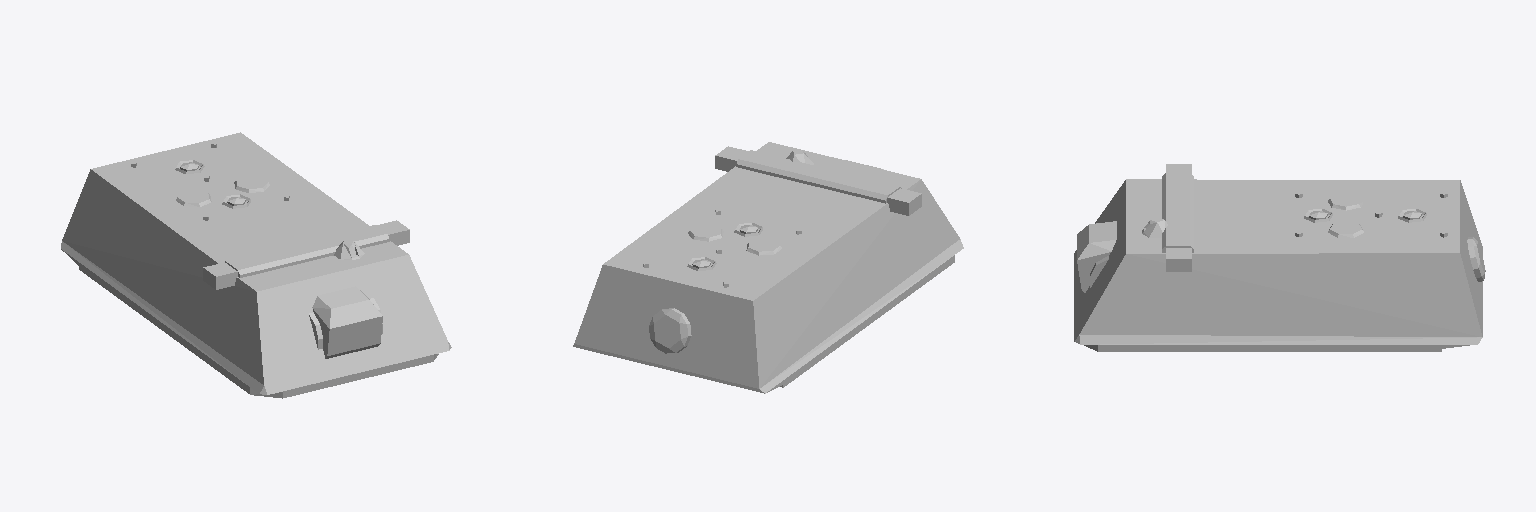
File: j100bash.obj
The picture shows the model from 3 angles: view 1: azimuth 30°, elevation 25°; view 2: azimuth 150°, elevation 25°; view 3: azimuth 270°, elevation 25°; orthographic projection.
Visible parts, largest first — view 1: object_168_object_168.001; view 2: object_168_object_168.001; view 3: object_168_object_168.001.
Part boxes in pixels (bbox=[...]): object_168_object_168.001: bbox=[61, 132, 451, 398]; object_168_object_168.001: bbox=[573, 142, 963, 393]; object_168_object_168.001: bbox=[1074, 164, 1485, 351].
Size of the model in its own units: 3.02 by 1.53 by 5.55.